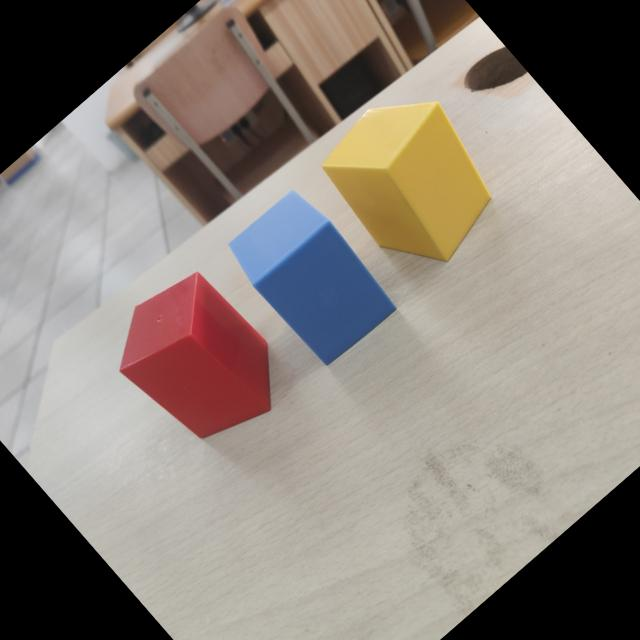blue: (231, 193, 397, 366)
red: (120, 272, 274, 439)
yellow: (323, 102, 493, 263)
